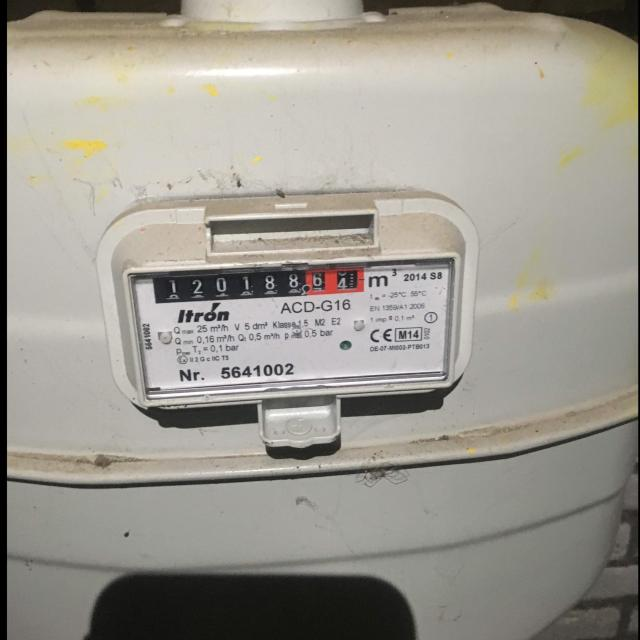gaz_meter: (130, 258, 455, 391)
indication: (154, 264, 367, 310)
